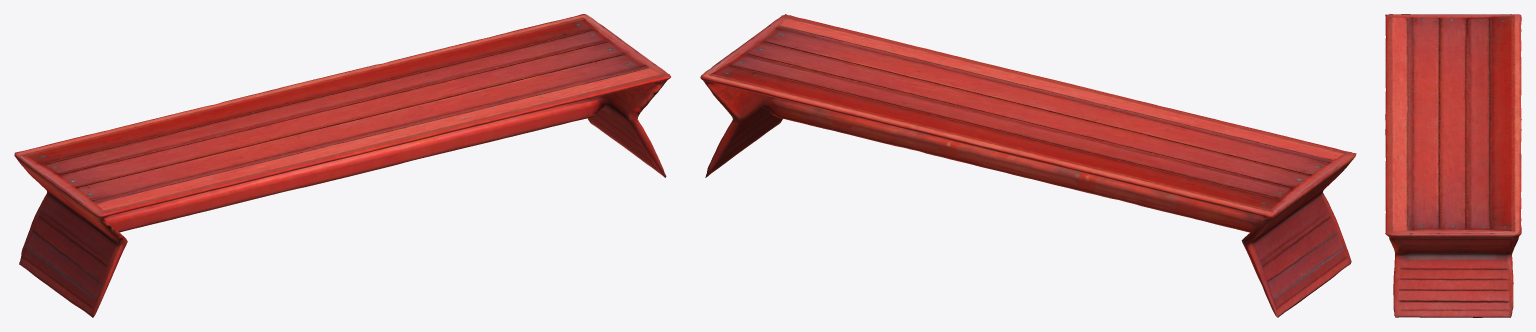
The model's file is furniture_2.glb.
The picture shows the model from 3 angles, left to right: view 1: azimuth 30°, elevation 25°; view 2: azimuth 150°, elevation 25°; view 3: azimuth 270°, elevation 25°; orthographic projection. The views are drawn at different scales.
Visible parts, largest first — view 1: Banc; view 2: Banc; view 3: Banc.
Part boxes in pixels (left/top/right/bottom): Banc: left=14, top=14, right=670, bottom=317; Banc: left=700, top=14, right=1356, bottom=317; Banc: left=1385, top=14, right=1521, bottom=317.
Size of the model in its own units: 0.9988 by 0.1777 by 0.2609.
Materials: 1 (1 with a texture image).
